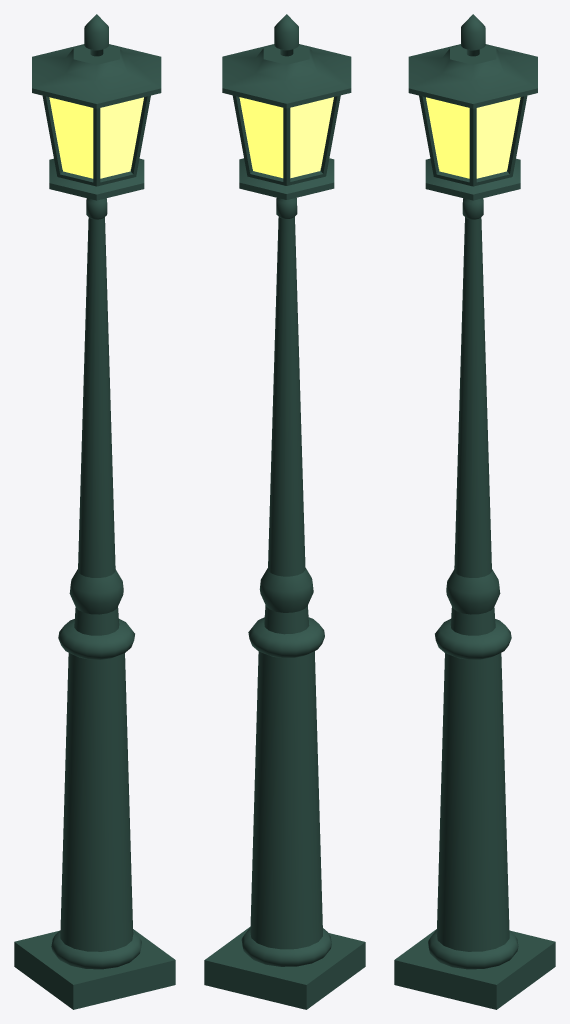
Rendered from Street_Vintage_Straight.fbx.
3 renders of one model, left to right at view 1: azimuth 30°, elevation 25°; view 2: azimuth 150°, elevation 25°; view 3: azimuth 330°, elevation 25°, orthographic.
Visible parts, largest first — view 1: Street_Vintage_Straight_LOD0; view 2: Street_Vintage_Straight_LOD0; view 3: Street_Vintage_Straight_LOD0.
Part boxes in pixels (x1=…): Street_Vintage_Straight_LOD0: x1=14, y1=14, x2=175, y2=1009; Street_Vintage_Straight_LOD0: x1=204, y1=14, x2=365, y2=1009; Street_Vintage_Straight_LOD0: x1=394, y1=14, x2=555, y2=1009.
Size of what is drawn, in the model's own units: 53.3 by 379 by 46.16.
